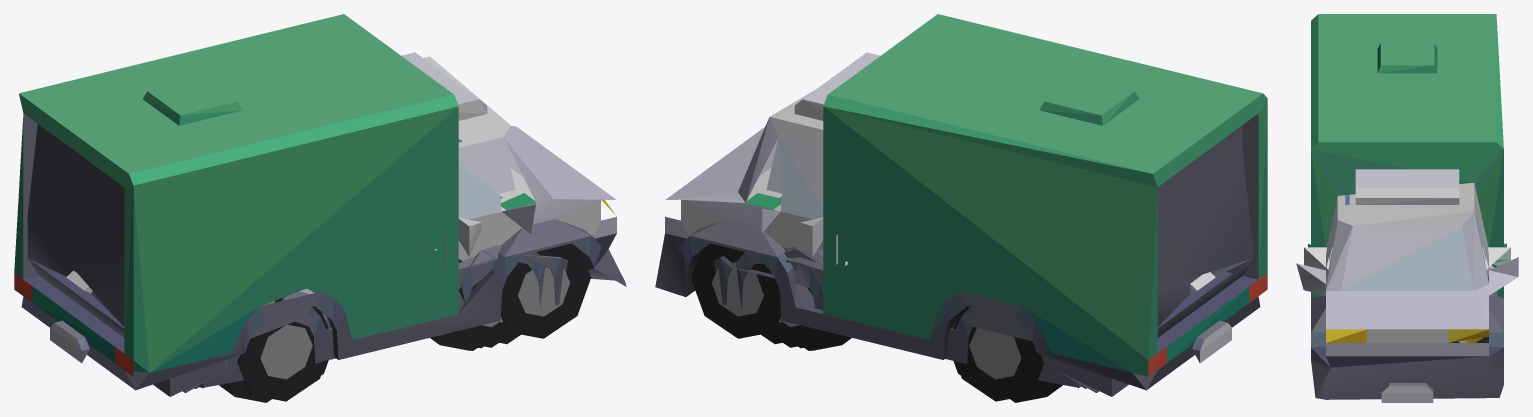
File: cars.glb
3 views of the same model, side by side, from view 1: azimuth 30°, elevation 25°; view 2: azimuth 150°, elevation 25°; view 3: azimuth 270°, elevation 25° (orthographic). The views are drawn at different scales.
Visible parts, largest first — view 1: car_delivery, car_pickup, car_van, car_sedan, car_suv, car_pickup_paint; view 2: car_delivery, car_pickup, car_van, car_suv, car_sedan; view 3: car_delivery, car_van_paint.
Boxes of the visible parts, box(x1,y1,x2,y2) form: car_delivery: box(14, 14, 626, 401); car_pickup: box(153, 241, 567, 402); car_van: box(183, 139, 545, 392); car_sedan: box(199, 249, 480, 388); car_suv: box(281, 193, 535, 374); car_pickup_paint: box(298, 167, 534, 294); car_delivery: box(655, 14, 1267, 401); car_pickup: box(714, 239, 1128, 402); car_van: box(735, 219, 1098, 392); car_suv: box(746, 193, 960, 374); car_sedan: box(797, 262, 1080, 388); car_delivery: box(1296, 14, 1518, 402); car_van_paint: box(1304, 247, 1510, 280).
Size of the model in its own units: 6.6 by 3.35 by 3.05.
